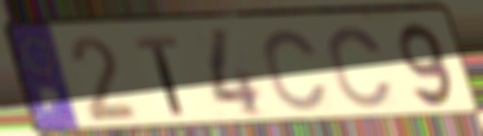2: (67, 34, 141, 125)
4: (207, 26, 268, 120)
9: (397, 19, 456, 109)
C: (325, 24, 396, 112), (261, 27, 331, 114)
T: (131, 33, 187, 118)
